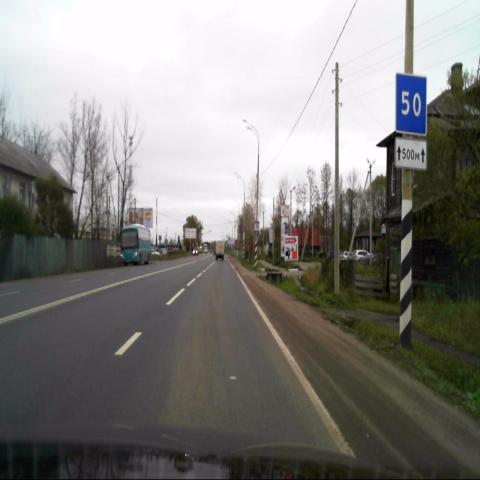6_2: (396, 74, 427, 137)
